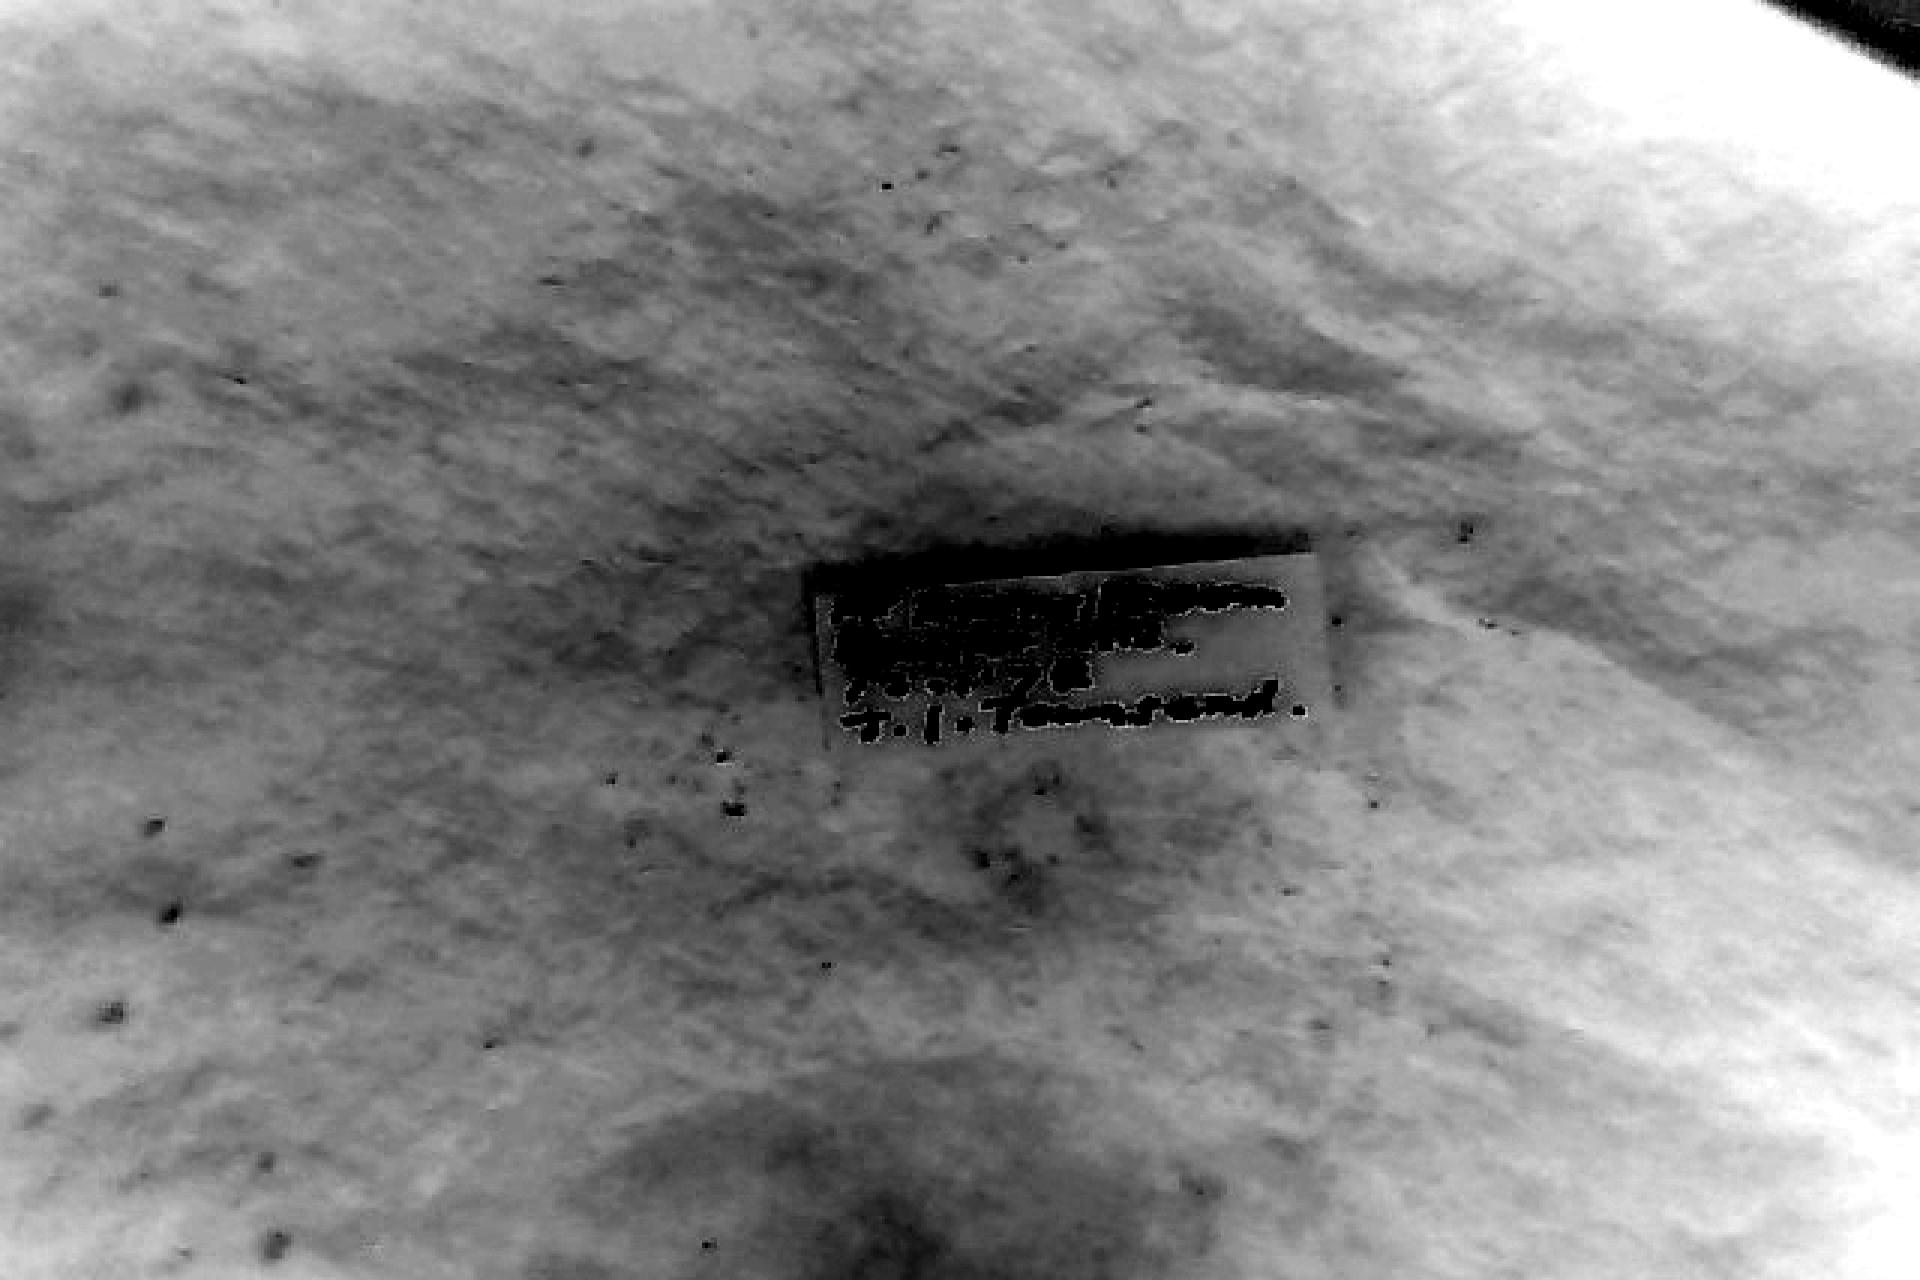hand_label: (814, 553, 1331, 745)
